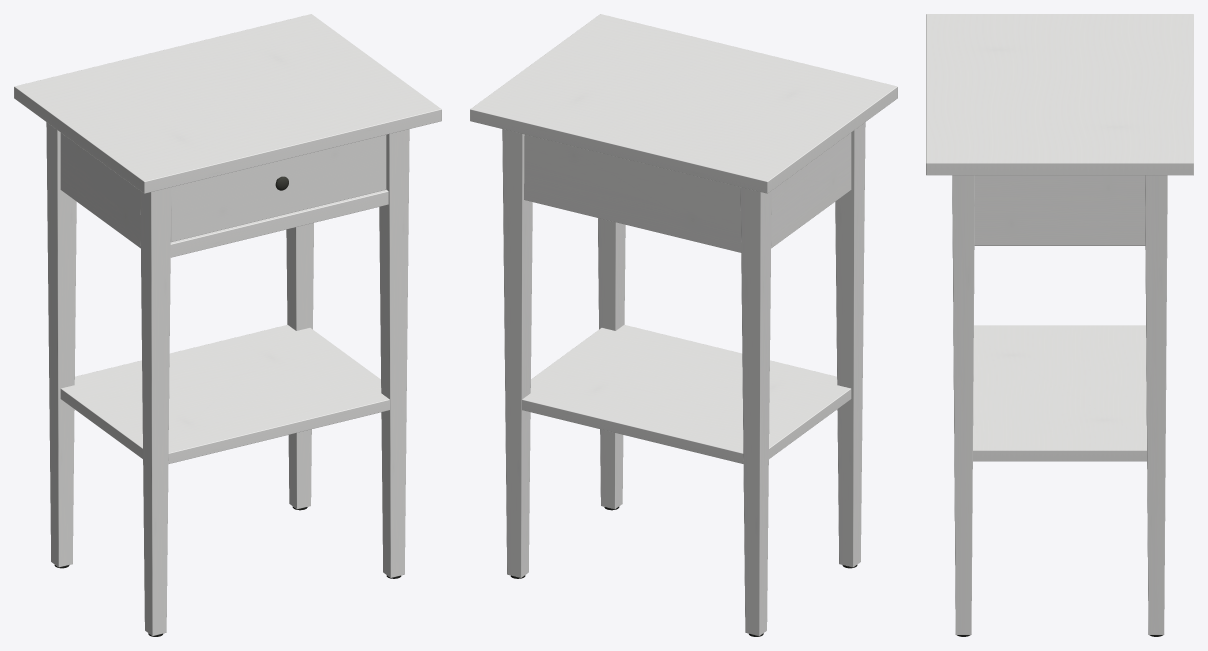
File: nightstand.glb
3 views of the same model, side by side, from view 1: azimuth 30°, elevation 25°; view 2: azimuth 150°, elevation 25°; view 3: azimuth 270°, elevation 25° (orthographic). The views are drawn at different scales.
Parts seen in each view (by area): view 1: HEMNES top overhang, HEMNES lower shelf, HEMNES subtly tapered pine leg, HEMNES drawer front, HEMNES subtly tapered pine leg.002, HEMNES subtly tapered pine leg.001, HEMNES inset side apron, HEMNES subtly tapered pine leg.003, HEMNES lower front crossrail; view 2: HEMNES top overhang, HEMNES lower shelf, HEMNES back apron, HEMNES subtly tapered pine leg.001, HEMNES subtly tapered pine leg.003, HEMNES subtly tapered pine leg, HEMNES inset side apron, HEMNES subtly tapered pine leg.002; view 3: HEMNES top overhang, HEMNES lower shelf, HEMNES inset side apron.001, HEMNES subtly tapered pine leg.002, HEMNES subtly tapered pine leg.003.
Part boxes in pixels (box(x1,y1,x2,y2)): HEMNES top overhang: box(14, 14, 441, 193); HEMNES lower shelf: box(60, 325, 389, 463); HEMNES subtly tapered pine leg: box(140, 187, 171, 635); HEMNES drawer front: box(171, 135, 386, 242); HEMNES subtly tapered pine leg.002: box(379, 129, 409, 577); HEMNES subtly tapered pine leg.001: box(46, 122, 76, 567); HEMNES inset side apron: box(60, 133, 140, 248); HEMNES subtly tapered pine leg.003: box(286, 223, 313, 509); HEMNES lower front crossrail: box(170, 189, 388, 257); HEMNES top overhang: box(470, 14, 897, 193); HEMNES lower shelf: box(522, 325, 851, 463); HEMNES back apron: box(524, 134, 741, 252); HEMNES subtly tapered pine leg.001: box(740, 187, 771, 635); HEMNES subtly tapered pine leg.003: box(502, 129, 532, 577); HEMNES subtly tapered pine leg: box(835, 122, 865, 567); HEMNES inset side apron: box(771, 133, 851, 248); HEMNES subtly tapered pine leg.002: box(598, 218, 625, 509); HEMNES top overhang: box(926, 14, 1193, 175); HEMNES lower shelf: box(973, 325, 1146, 461); HEMNES inset side apron.001: box(974, 175, 1145, 245); HEMNES subtly tapered pine leg.002: box(952, 175, 974, 634); HEMNES subtly tapered pine leg.003: box(1145, 175, 1167, 634).
Bounding box in the file's own units: 0.4604 × 0.6985 × 0.3492.
Materials: 3 (1 with a texture image).
